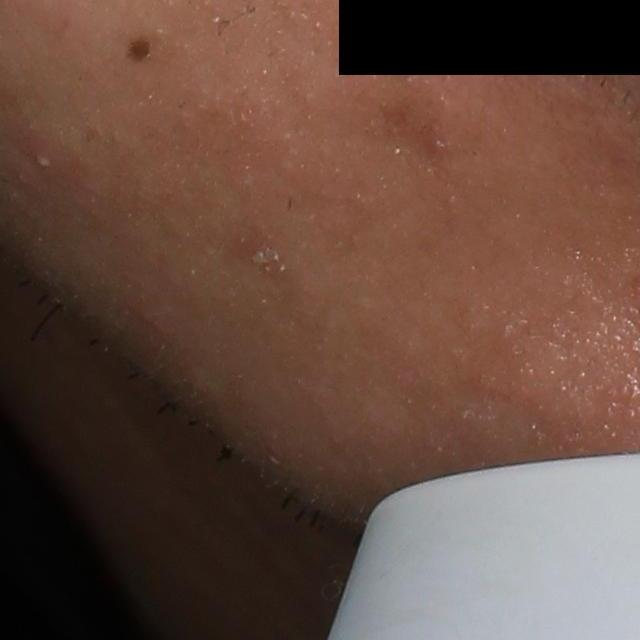nevus: (125, 35, 152, 64)
